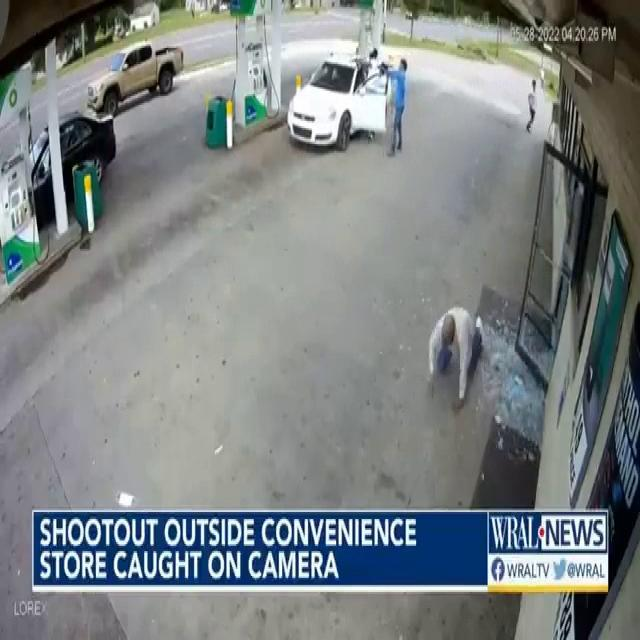penembakan: (376, 55, 410, 165)
